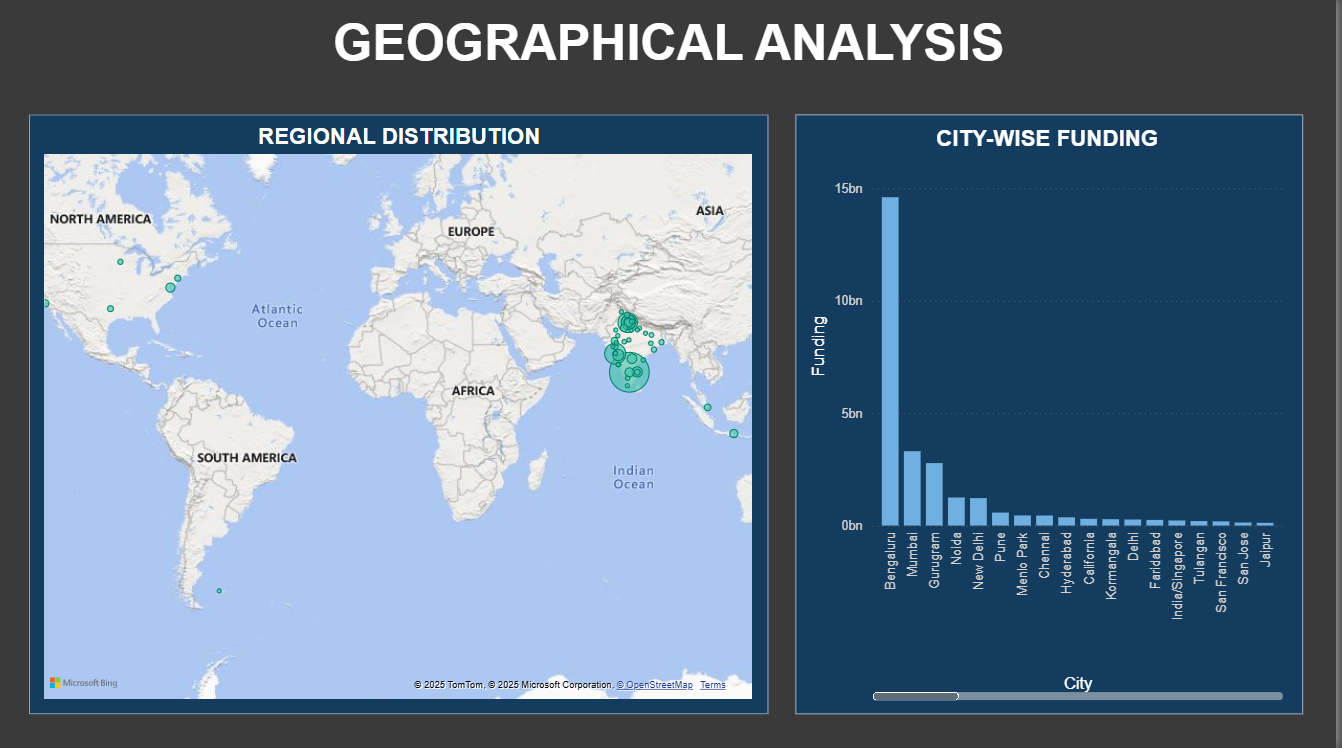

This screenshot's page, from the dashboard's own definition file:
{"tool":"powerbi","page":{"name":"Regional Trend","canvas":[1280,720],"ordinal":2},"visuals":[{"type":"map","title":"REGIONAL DISTRIBUTION","fields":{"Category":["public startup_fundings_new.city"],"Size":["Sum(public startup_fundings_new.amount_usd)"]},"box":[30.9,113.9,705.9,572.5],"z":0},{"type":"clusteredColumnChart","title":"CITY-WISE FUNDING","fields":{"Category":["public startup_fundings_new.city"],"Y":["Sum(public startup_fundings_new.amount_usd)"]},"box":[762.8,113.9,484.7,572.5],"z":1000},{"type":"textbox","box":[141.5,11.4,1015,84.6],"z":2000}]}

Visuals, with their boxes in screenshot pixels (x1, y1, x2, y2), scaled from the page's 1280x720 canvas onto the 1342x748 screenshot:
"REGIONAL DISTRIBUTION" map: left=32, top=118, right=772, bottom=713
"CITY-WISE FUNDING" clusteredColumnChart: left=800, top=118, right=1308, bottom=713
textbox: left=148, top=12, right=1213, bottom=100
